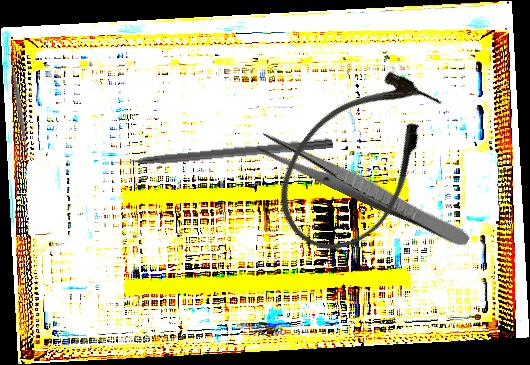Cannula: (254, 48, 463, 273)
Dressing Forceps: (253, 129, 475, 250)
Pusher: (100, 135, 334, 170)
Spatula Surgical: (5, 51, 34, 161)
